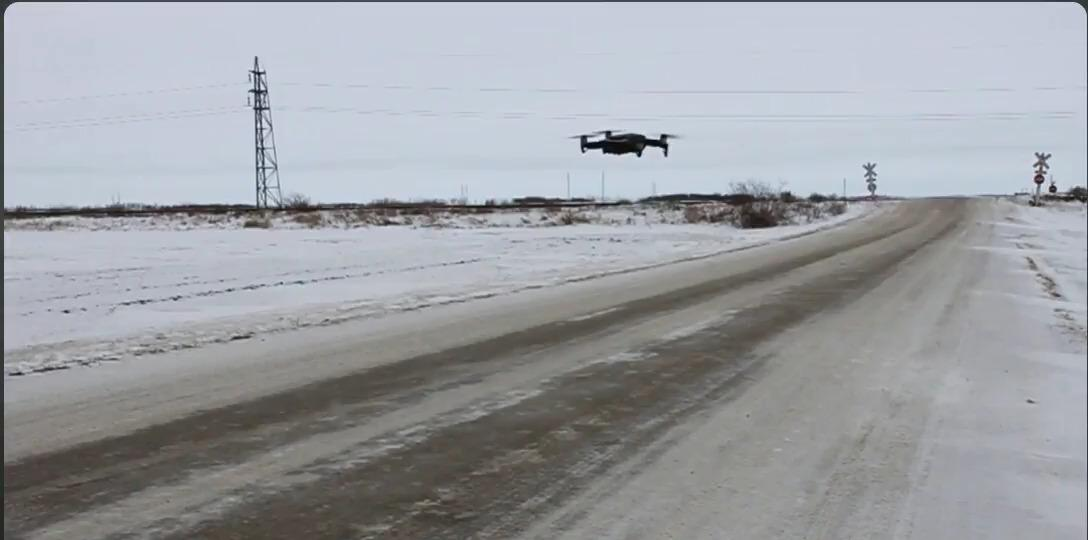dr: (578, 110, 693, 173)
